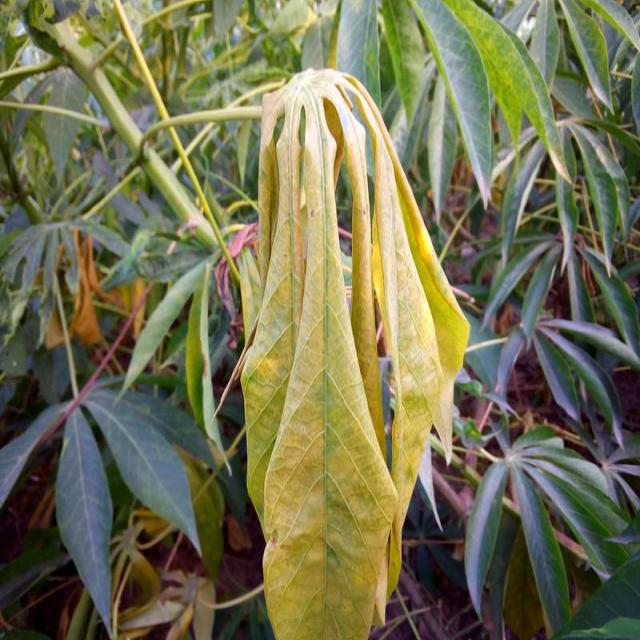cassava leaf: (238, 65, 470, 639)
